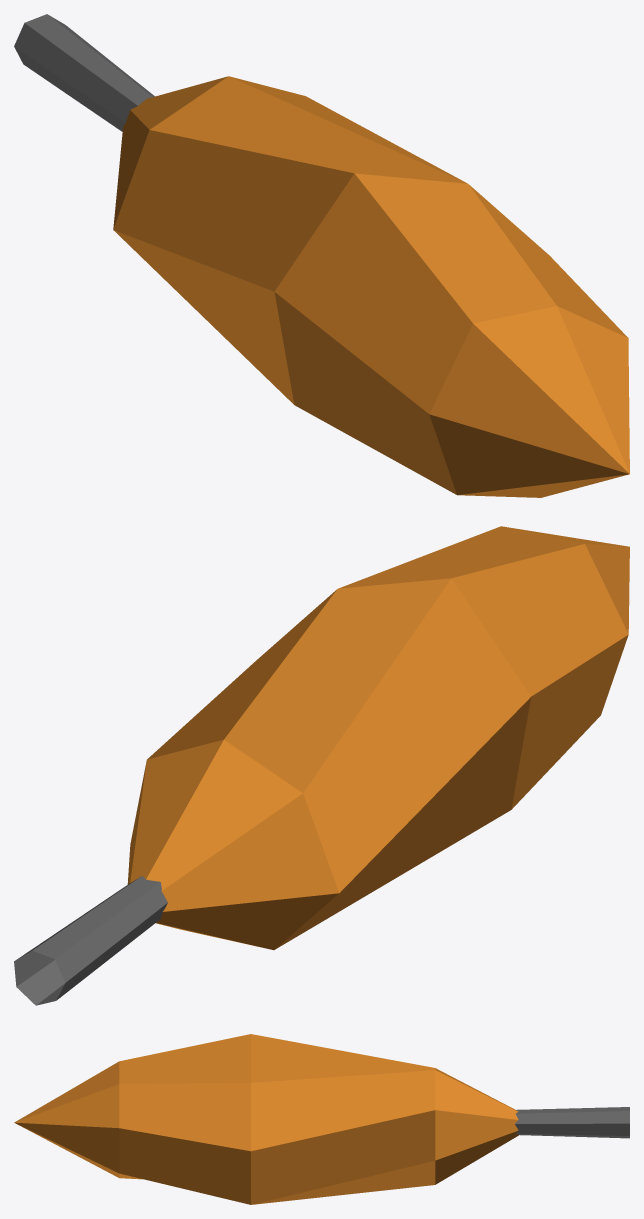
File: dying_0.glb
3 renders of one model, top to bottom at view 1: azimuth 30°, elevation 25°; view 2: azimuth 150°, elevation 25°; view 3: azimuth 270°, elevation 25°, orthographic. The views are drawn at different scales.
Parts seen in each view (by area): view 1: tree_10_dying_0; view 2: tree_10_dying_0; view 3: tree_10_dying_0.
Boxes of the visible parts, left/top/right/bottom form: tree_10_dying_0: left=14, top=14, right=629, bottom=497; tree_10_dying_0: left=14, top=526, right=629, bottom=1005; tree_10_dying_0: left=14, top=1034, right=629, bottom=1204.
Size of the model in its own units: 9.07 by 8.59 by 33.71.
